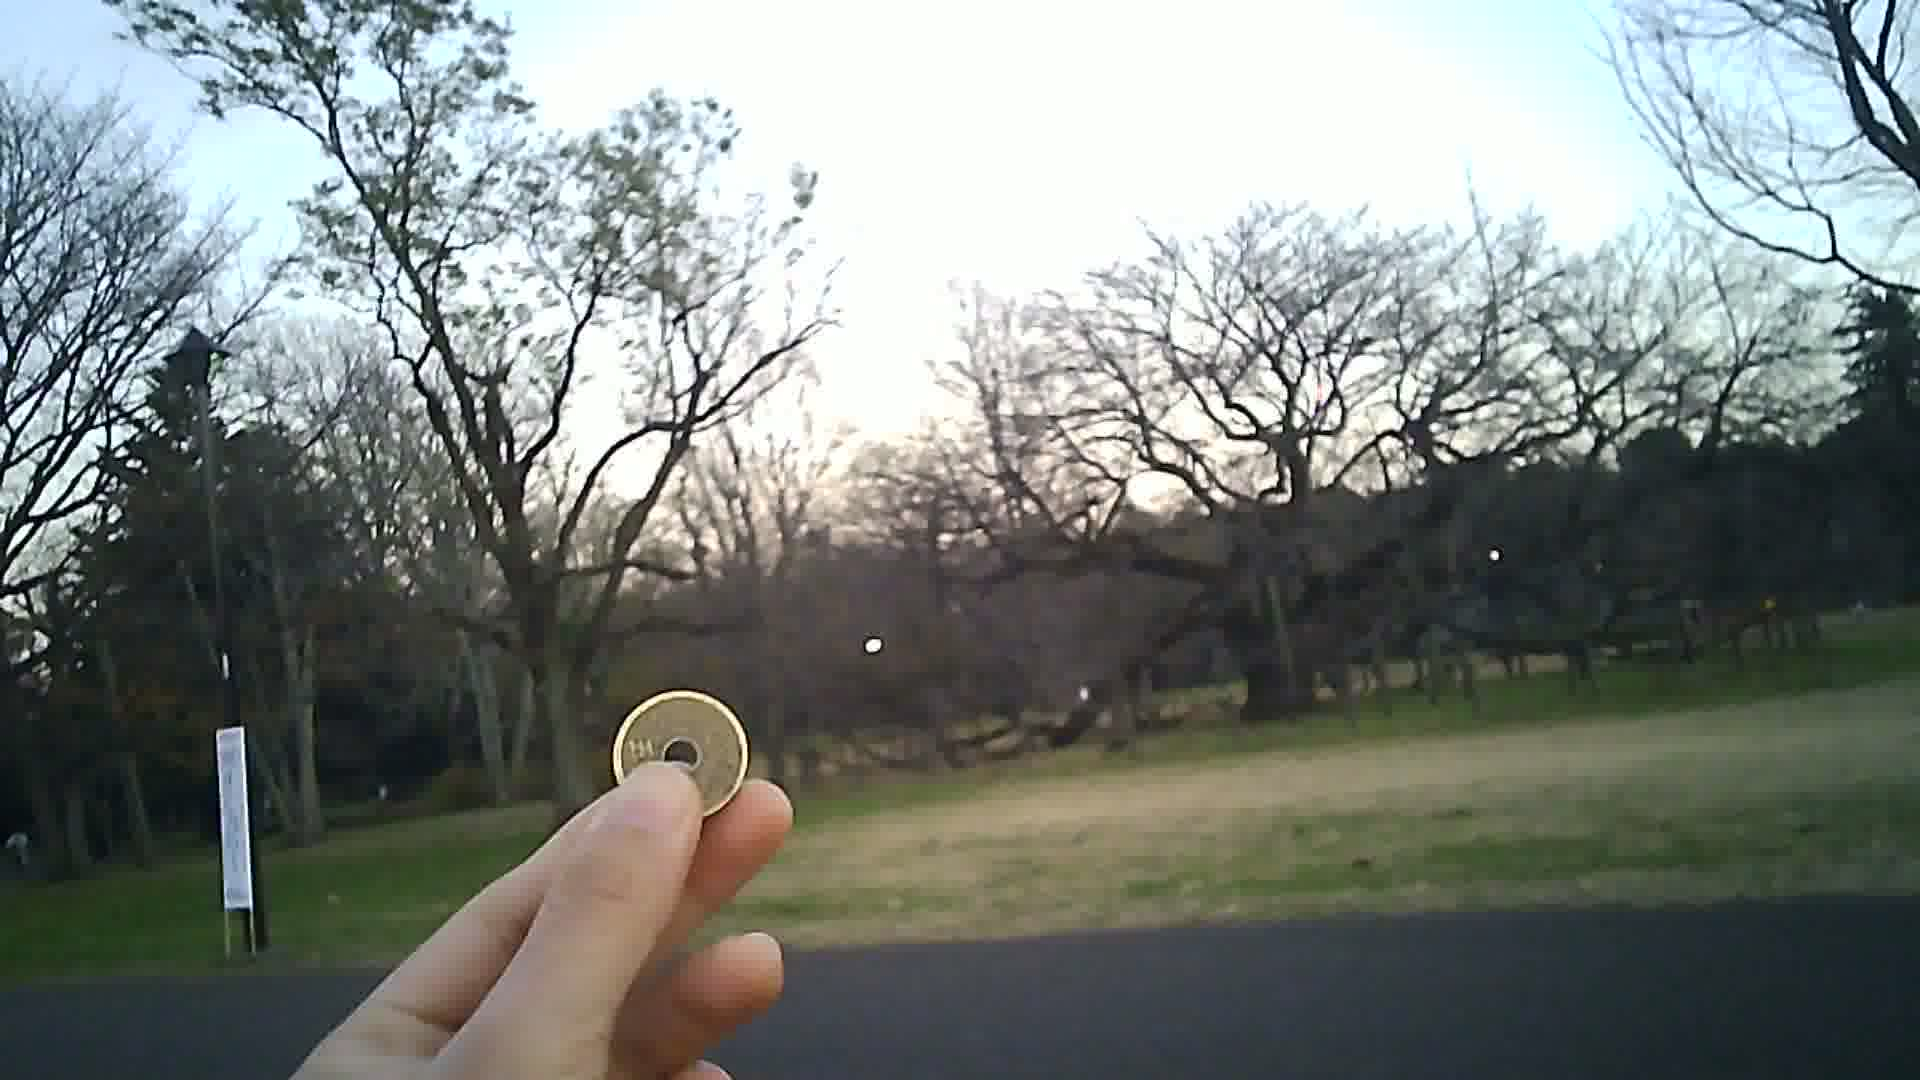5 Yen: (611, 684, 761, 815)
